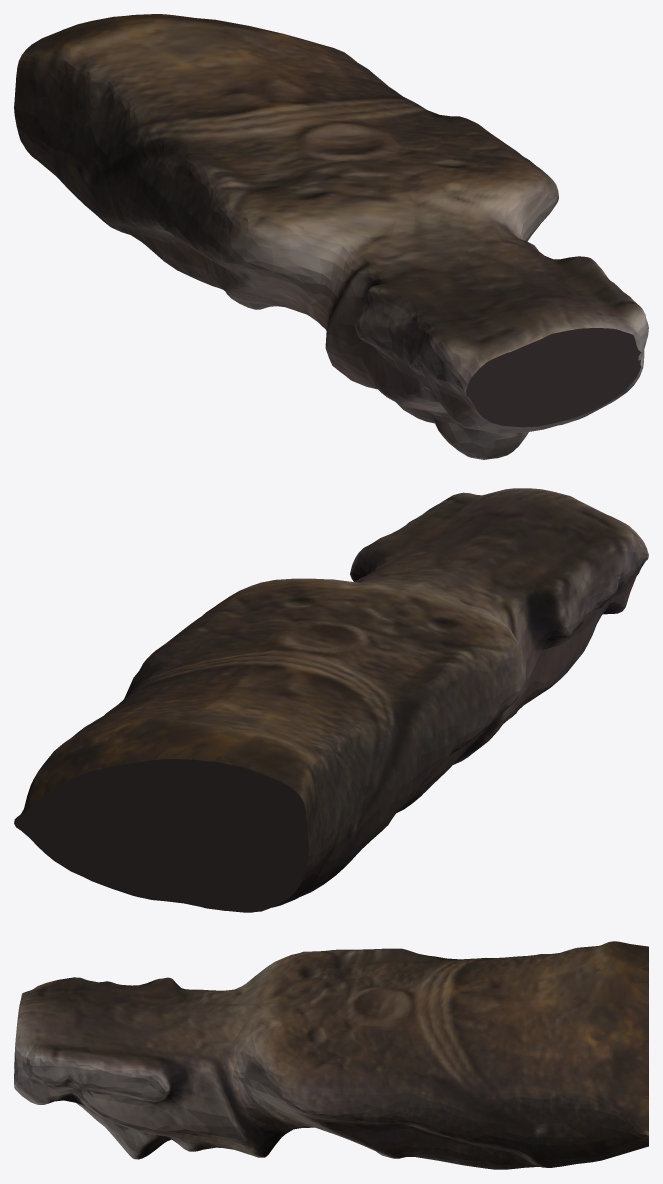
Rendered from moai_bm_scaled_down.dae.
3 renders of one model, top to bottom at view 1: azimuth 30°, elevation 25°; view 2: azimuth 150°, elevation 25°; view 3: azimuth 270°, elevation 25°, orthographic. The views are drawn at different scales.
Visible parts, largest first — view 1: node; view 2: node; view 3: node.
Part boxes in pixels (x1,y1,x2,y2): node: (14, 14, 648, 459); node: (14, 488, 648, 912); node: (14, 941, 648, 1169).
Bounding box in the file's own units: 0.7792 × 0.5076 × 1.68.
1 material, 1 textured.
